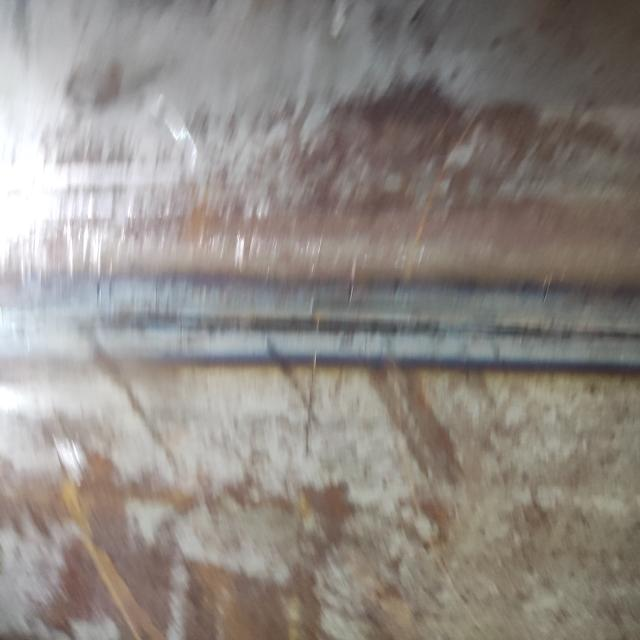seam: (0, 256, 640, 394)
